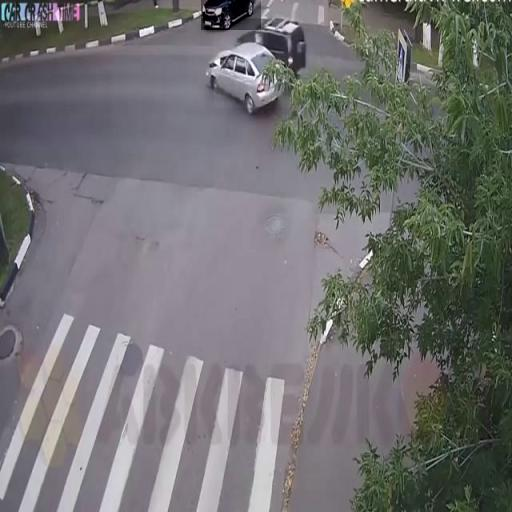小汽车: (201, 0, 261, 30)
小汽车撞小汽车: (214, 18, 302, 108)
